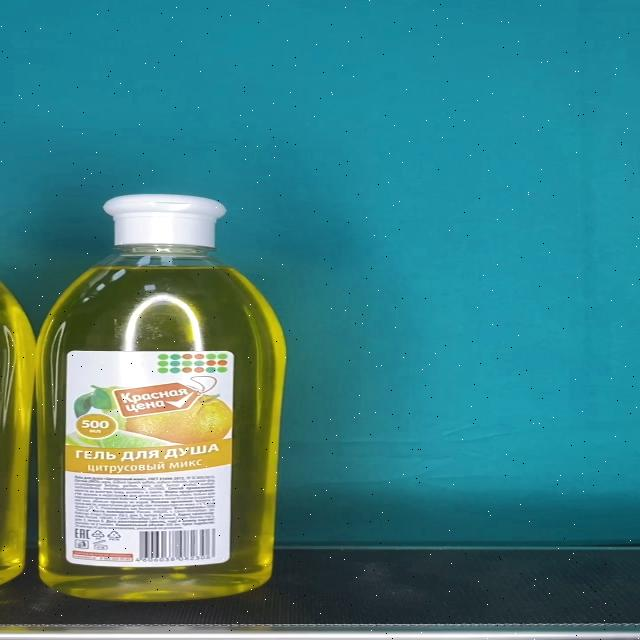Bottle: (36, 193, 286, 601)
Cap: (102, 194, 225, 246)
